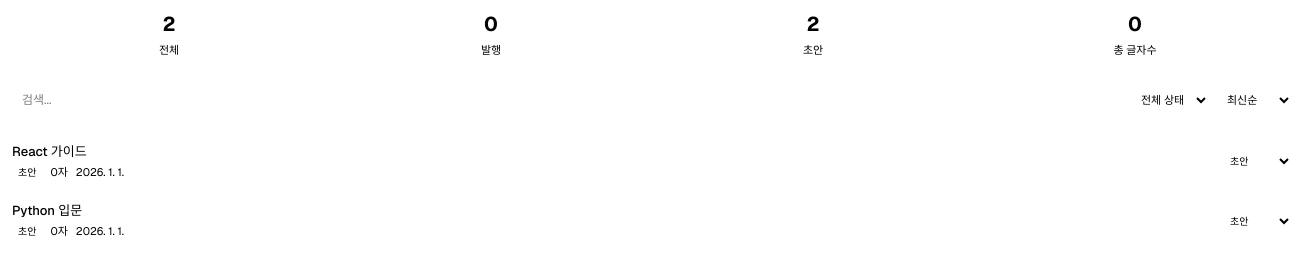
Test: DashboardPanel › filters articles by search text
Type "React" into the field with placeholder "검색..." at (568, 100), box [12,85,1123,116]
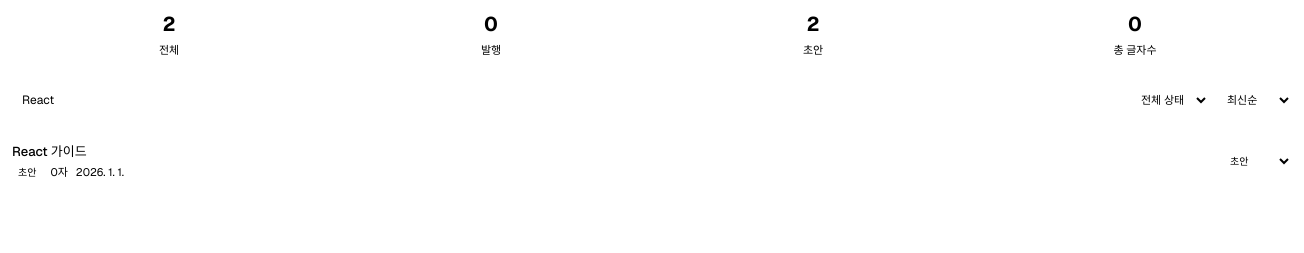
expect the text "React 가이드" is shown: met, box [12,143,87,160]
expect the text "Python 입문" is gone: met
